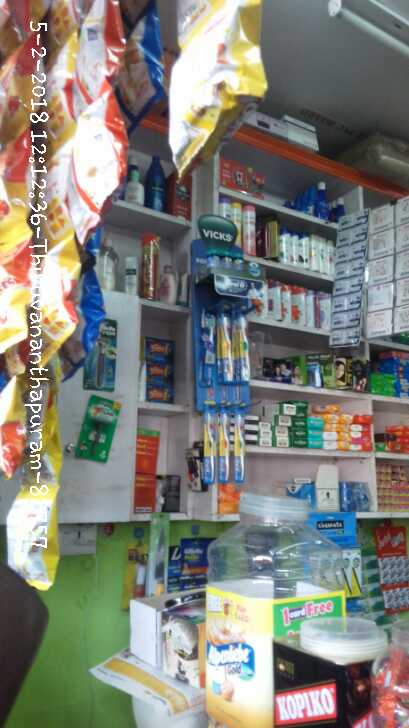beauty: (77, 395, 123, 465)
oralb: (204, 403, 218, 483), (217, 405, 230, 485), (236, 309, 250, 382), (234, 404, 246, 484)
pharmacy: (216, 309, 235, 383), (205, 248, 220, 268), (232, 250, 245, 271), (218, 251, 231, 268)
